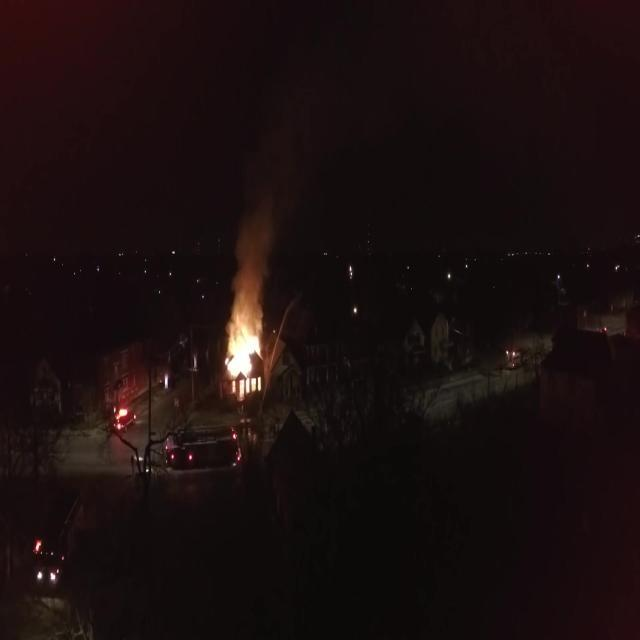Fire: (224, 323, 266, 378)
Smoke: (230, 176, 281, 337)
